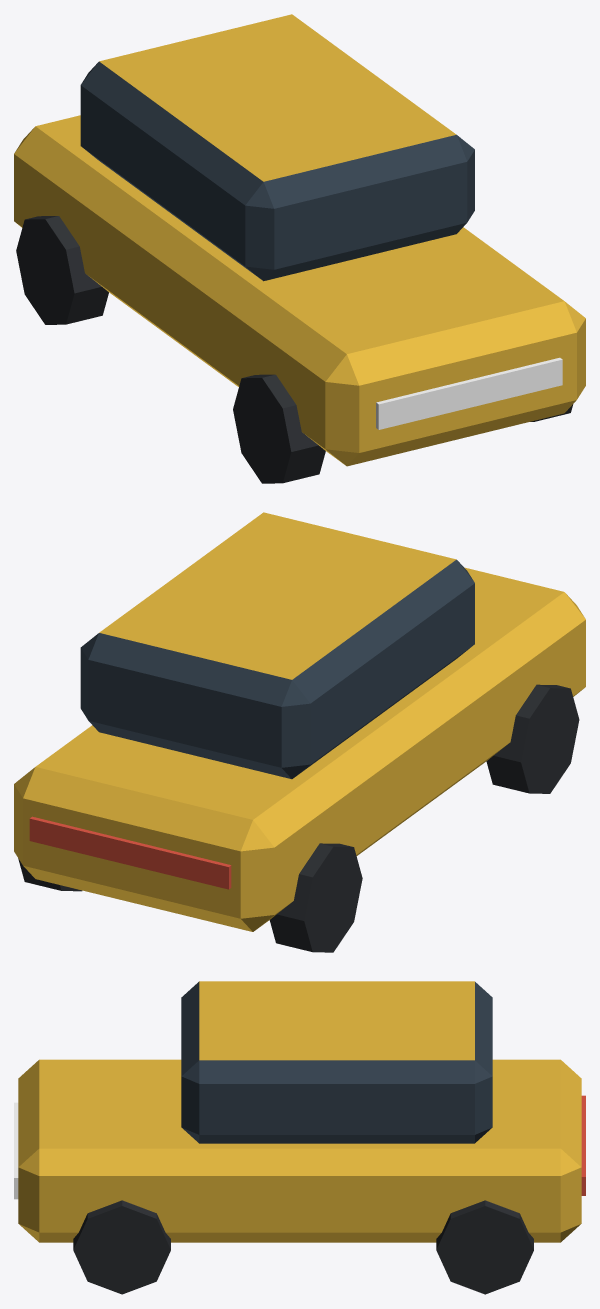
Rendered from car_c.fbx.
3 views of the same model, one above another, from view 1: azimuth 30°, elevation 25°; view 2: azimuth 150°, elevation 25°; view 3: azimuth 270°, elevation 25° (orthographic). The views are drawn at different scales.
Visible parts, largest first — view 1: car_c; view 2: car_c; view 3: car_c.
Boxes of the visible parts, x1,y1,x2,y2 form: car_c: [14, 14, 585, 483]; car_c: [14, 512, 585, 952]; car_c: [14, 981, 585, 1294].
Bounding box in the file's own units: 1.88 × 1.6 × 3.86.
